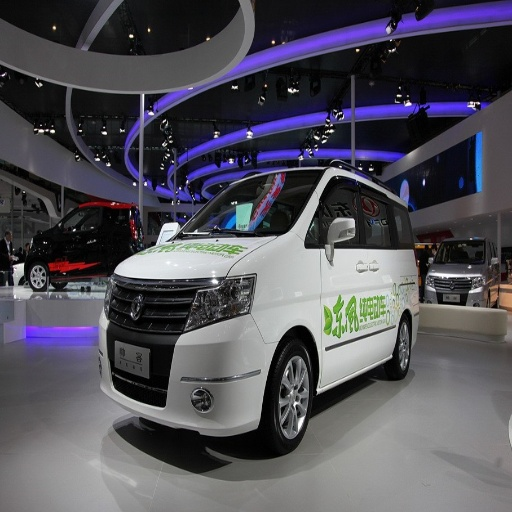back_glass: (98, 1, 230, 54)
front_bumper: (98, 274, 277, 436)
front_glass: (171, 172, 321, 238)
front_left_door: (314, 168, 371, 381)
